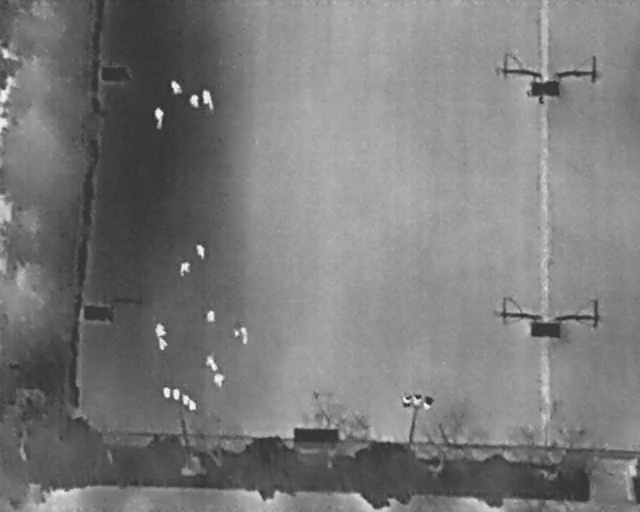Person: (199, 87, 216, 113), (200, 351, 220, 373), (166, 76, 185, 98), (232, 325, 250, 348), (152, 107, 164, 131), (193, 243, 208, 260), (212, 371, 226, 388), (154, 322, 167, 338), (179, 261, 191, 276), (188, 94, 200, 107), (157, 338, 168, 352), (206, 308, 216, 323)
